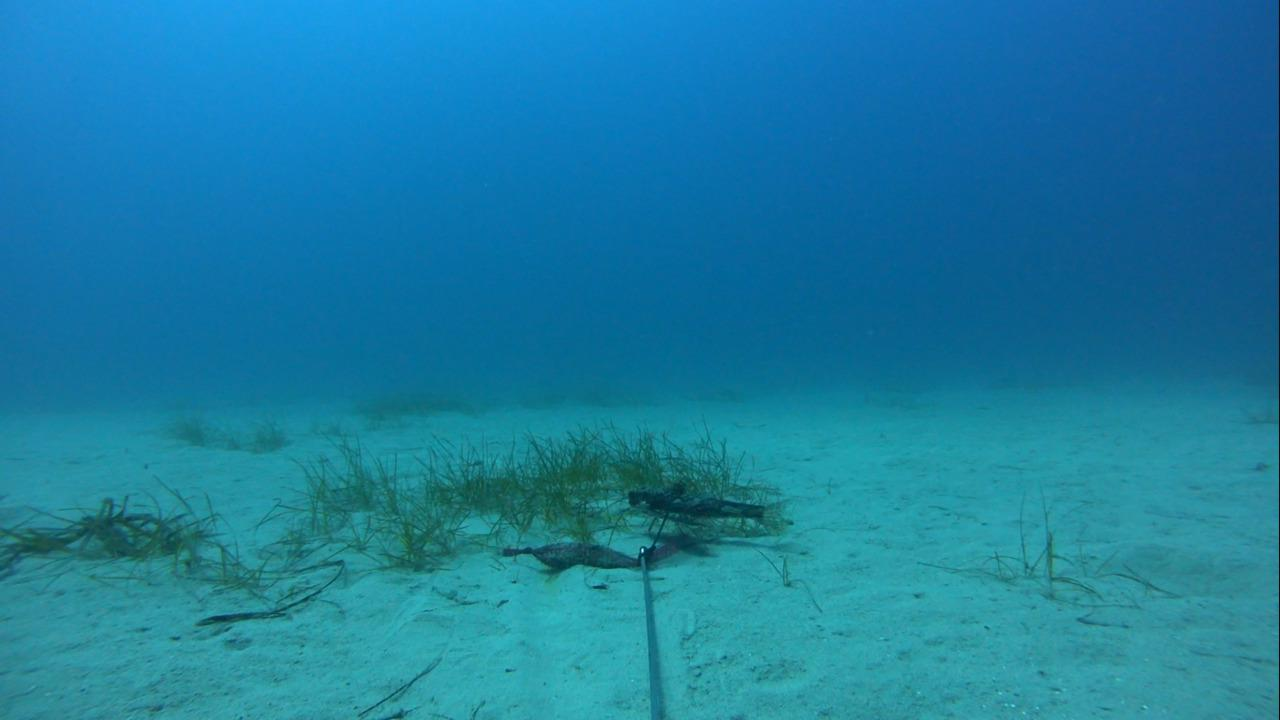dactylopterus: (618, 477, 787, 533)
